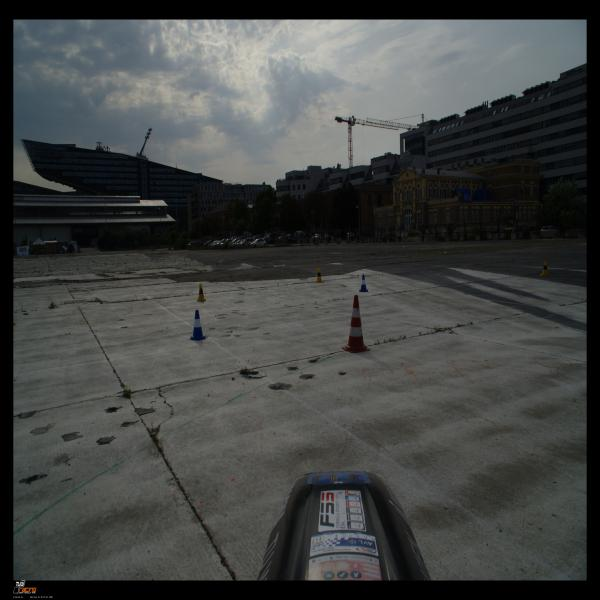blue_cone: (188, 309, 208, 340), (359, 275, 368, 292)
large_orange_cone: (342, 295, 370, 353)
yellow_cone: (195, 283, 207, 302), (315, 268, 323, 282)
